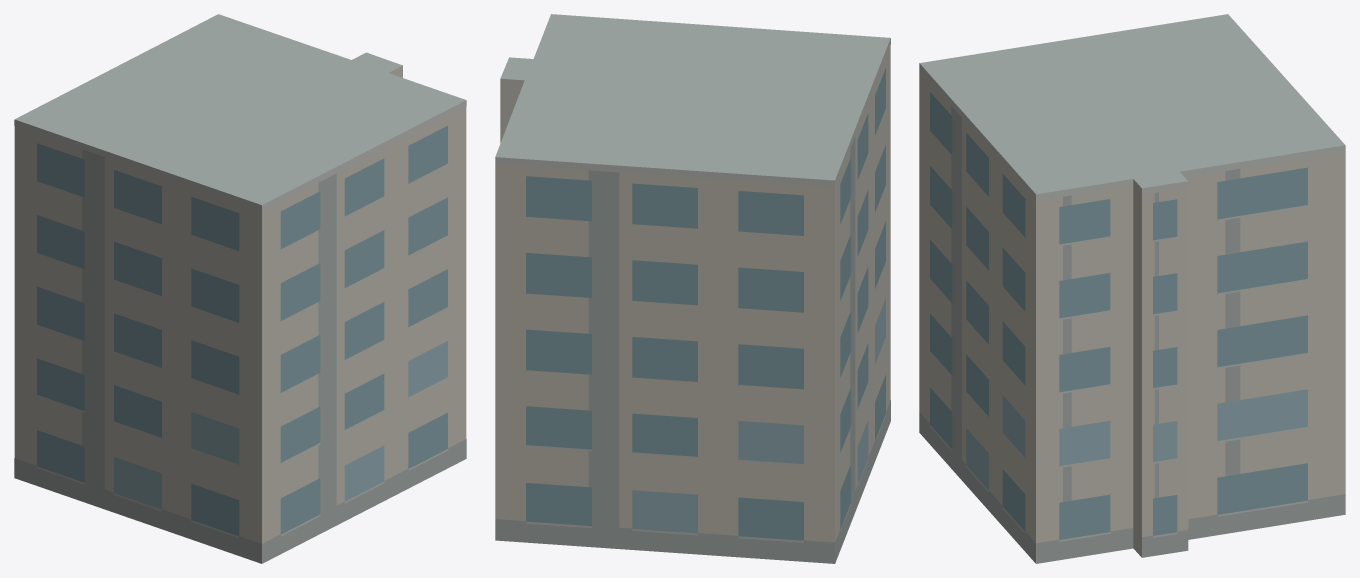
The model's file is survey-upis-32851547.glb.
3 renders of one model, left to right at view 1: azimuth 30°, elevation 25°; view 2: azimuth 150°, elevation 25°; view 3: azimuth 270°, elevation 25°, orthographic. The views are drawn at different scales.
Parts seen in each view (by area): view 1: survey-upis-32851547.tmp; view 2: survey-upis-32851547.tmp; view 3: survey-upis-32851547.tmp.
Part boxes in pixels (box(x1,y1,x2,y2)): survey-upis-32851547.tmp: box(14, 14, 466, 563); survey-upis-32851547.tmp: box(495, 14, 890, 563); survey-upis-32851547.tmp: box(919, 14, 1345, 563).
Size of the model in its own units: 14.2 by 13.55 by 14.17.
